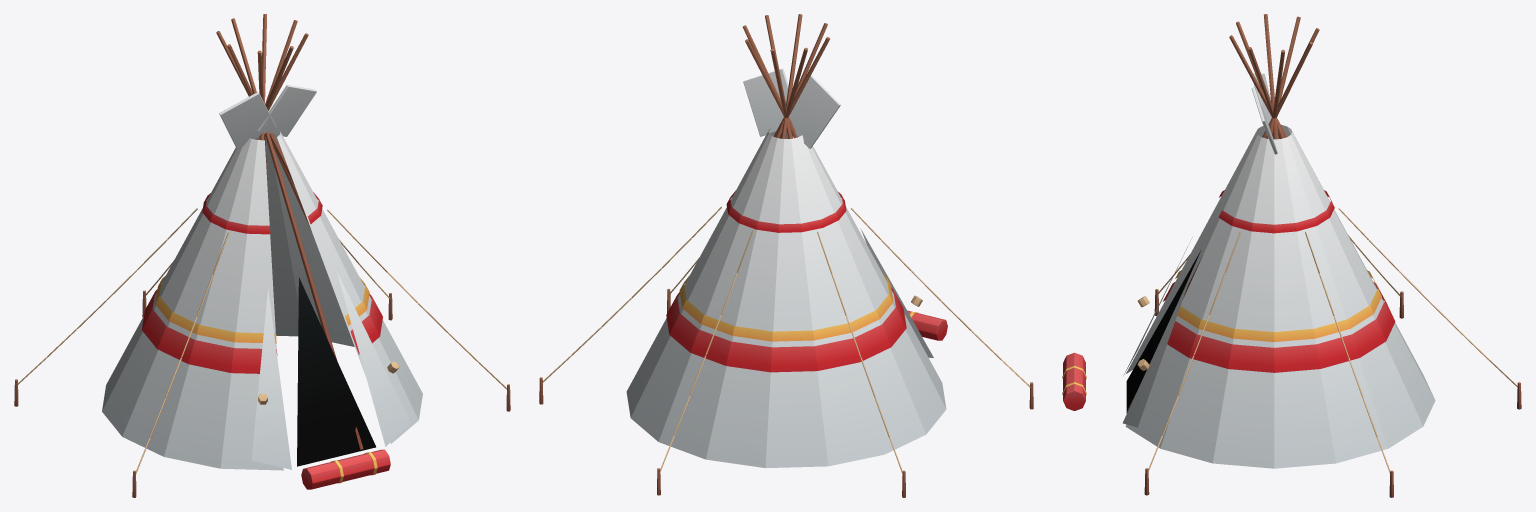
Rendered from nomad_tent.glb.
The picture shows the model from 3 angles, left to right: view 1: azimuth 30°, elevation 25°; view 2: azimuth 150°, elevation 25°; view 3: azimuth 270°, elevation 25°; orthographic projection.
Visible parts, largest first — view 1: nomad_tent; view 2: nomad_tent; view 3: nomad_tent.
Part boxes in pixels (left/top/right/bottom): nomad_tent: left=14, top=14, right=510, bottom=497; nomad_tent: left=539, top=14, right=1033, bottom=497; nomad_tent: left=1062, top=14, right=1521, bottom=497.
Size of the model in its own units: 6.74 by 6.41 by 7.12.
Materials: 1 (1 with a texture image).
